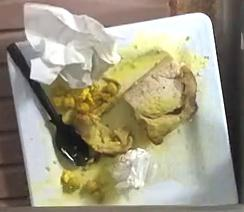beans: (41, 76, 118, 124), (61, 166, 116, 203)
pork: (124, 55, 197, 144)
